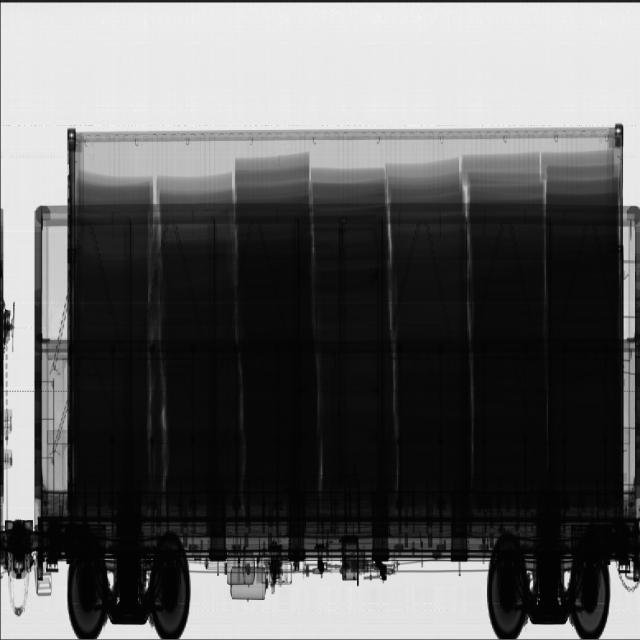fabrics: (76, 152, 618, 500)
